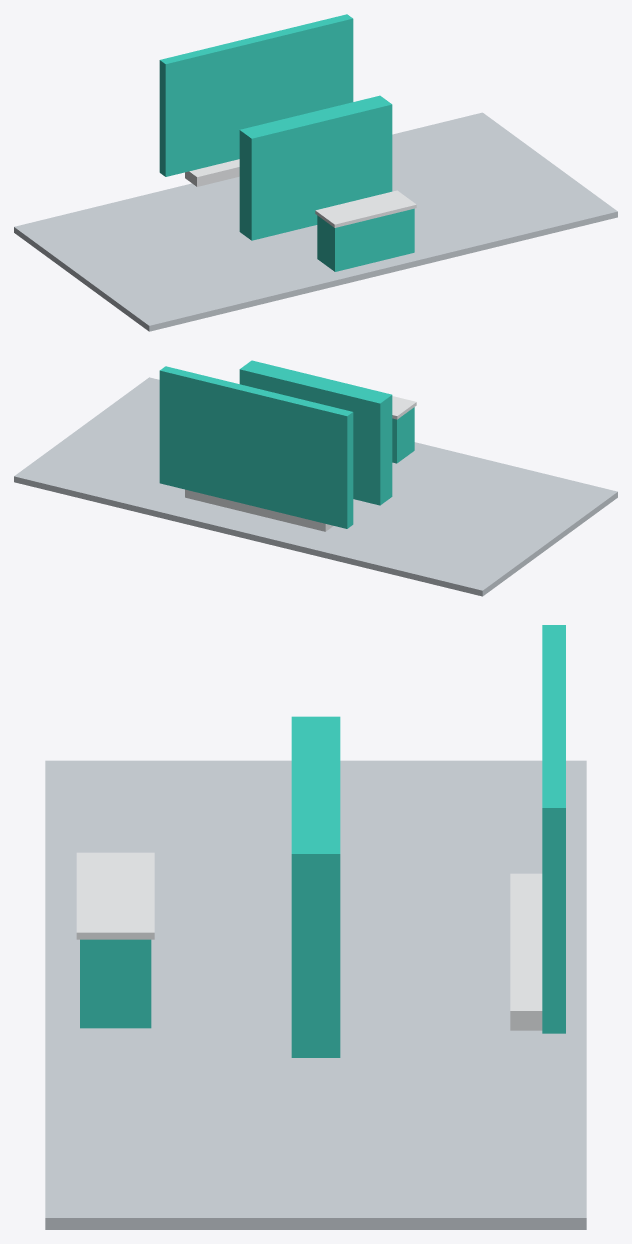
3 views of the same model, one above another, from view 1: azimuth 30°, elevation 25°; view 2: azimuth 150°, elevation 25°; view 3: azimuth 270°, elevation 25° (orthographic). The views are drawn at different scales.
Parts seen in each view (by area): view 1: Exhibition Booth Concept; view 2: Exhibition Booth Concept; view 3: Exhibition Booth Concept.
Part boxes in pixels (bbox=[...]): Exhibition Booth Concept: bbox=[14, 14, 617, 331]; Exhibition Booth Concept: bbox=[14, 360, 617, 596]; Exhibition Booth Concept: bbox=[45, 625, 586, 1229].
Size of the model in its own units: 10 by 2.9 by 5.
